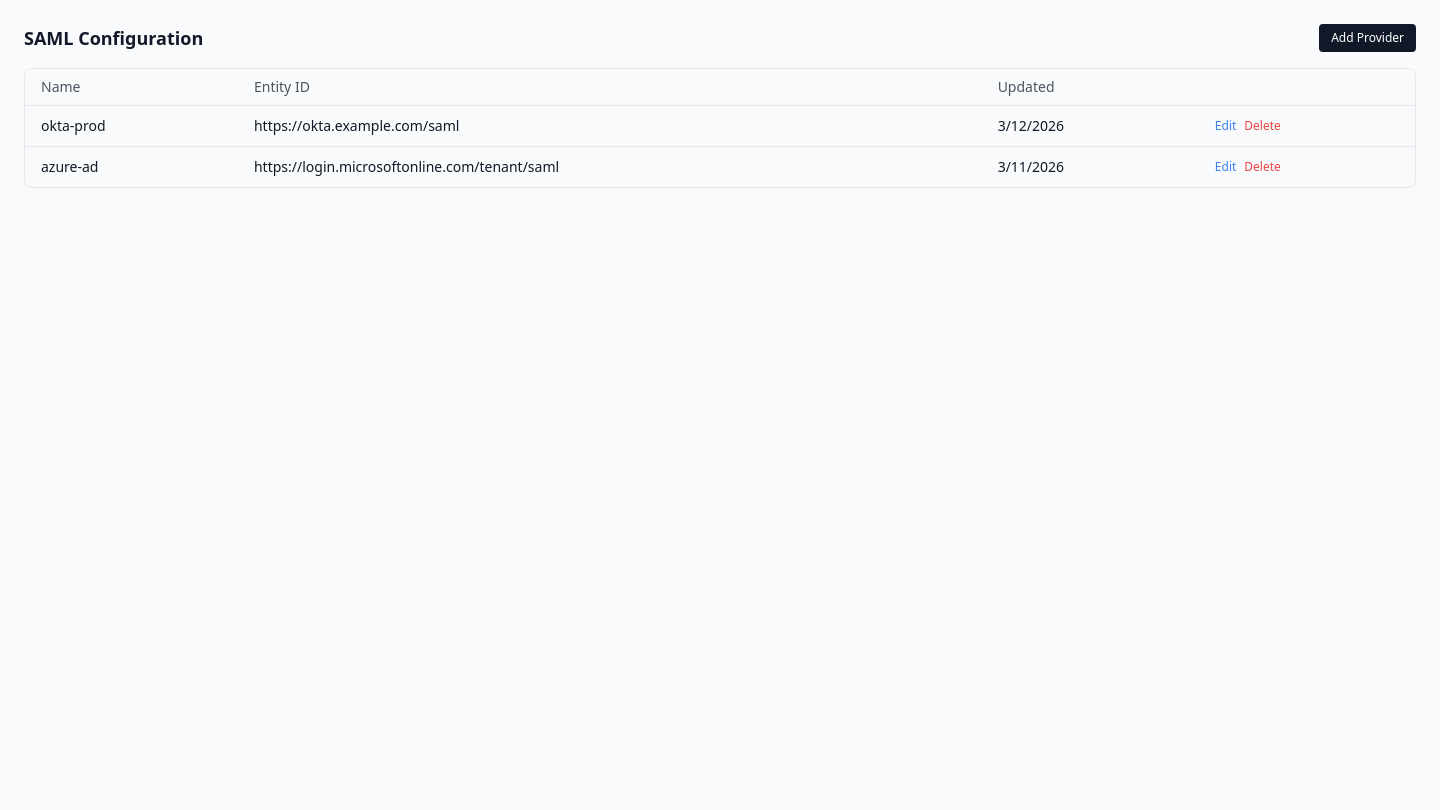
Test case: SAMLConfig › pre-fills form on edit
Check: the text "okta-prod" is shown, box [25,106,238,146]
Click the button labelled "Edit " in the row of "okta-prod": (1226, 126) [1215,118,1236,134]
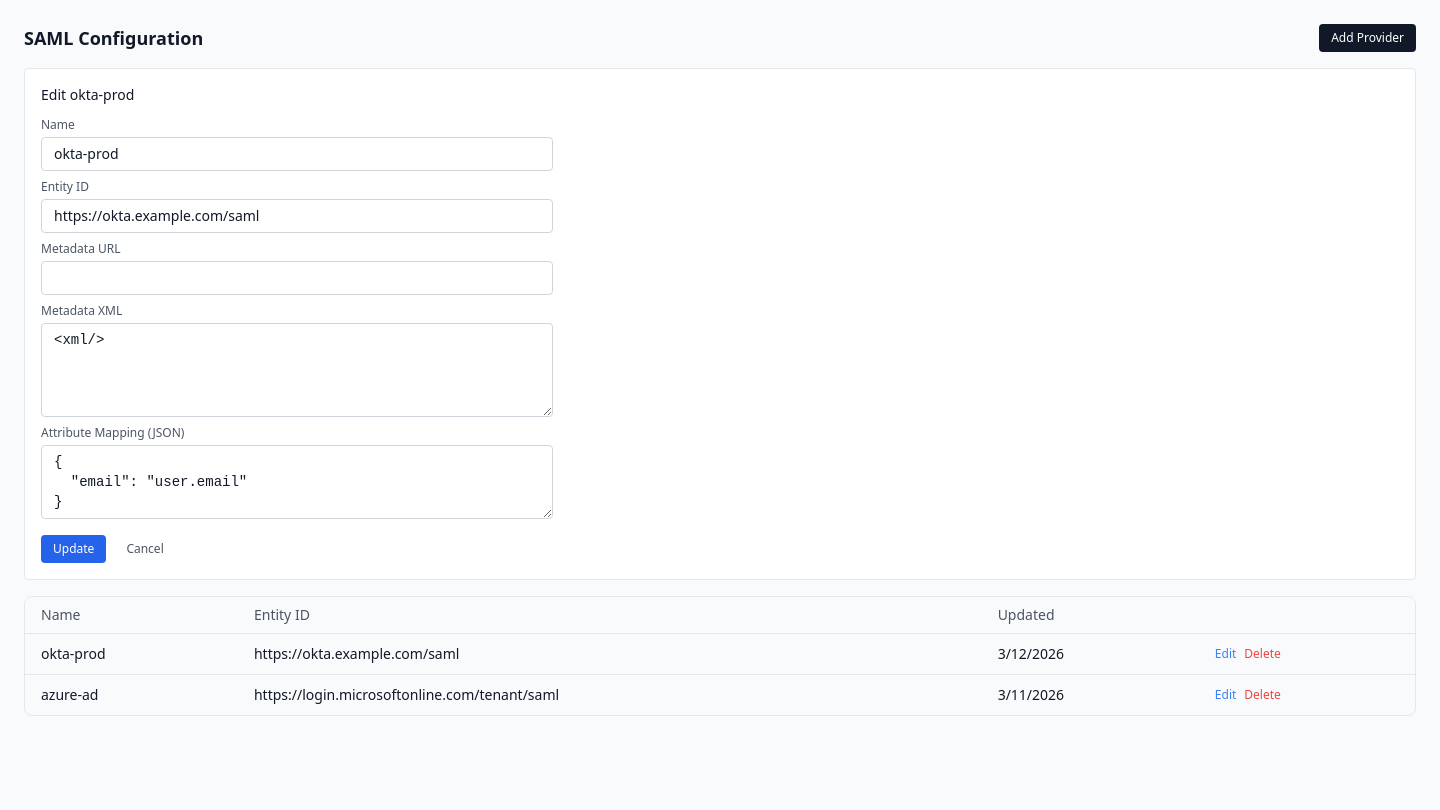
Check: the field labelled "Name" holds "okta-prod", box [41,137,553,171]
Check: the field labelled "Entity ID" holds "https://okta.example.com/saml", box [41,199,553,233]
